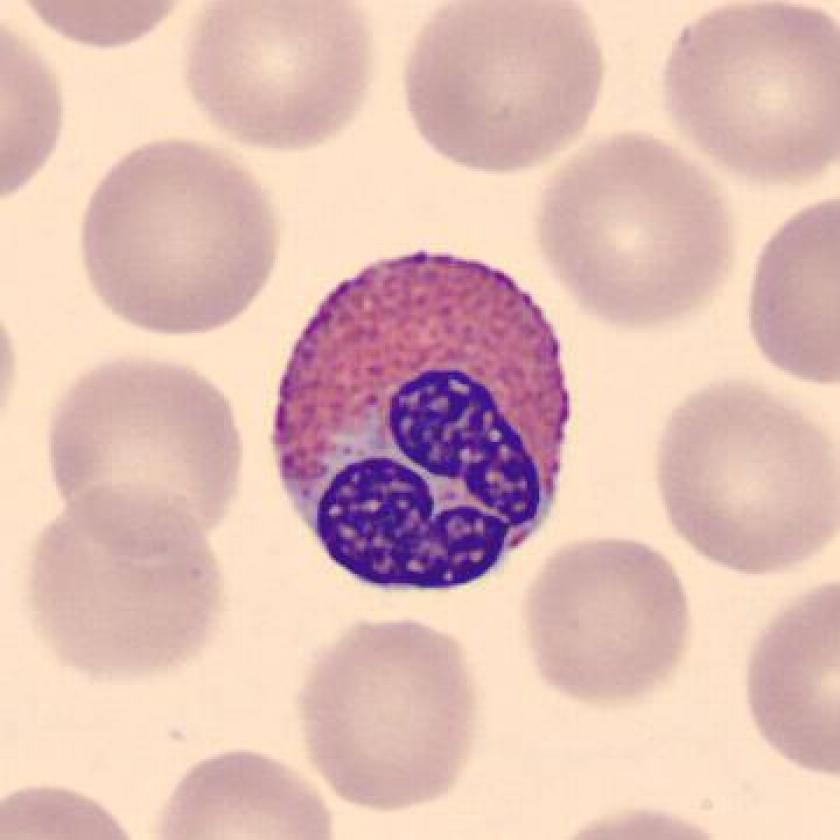eosinophil: (260, 237, 589, 612)
